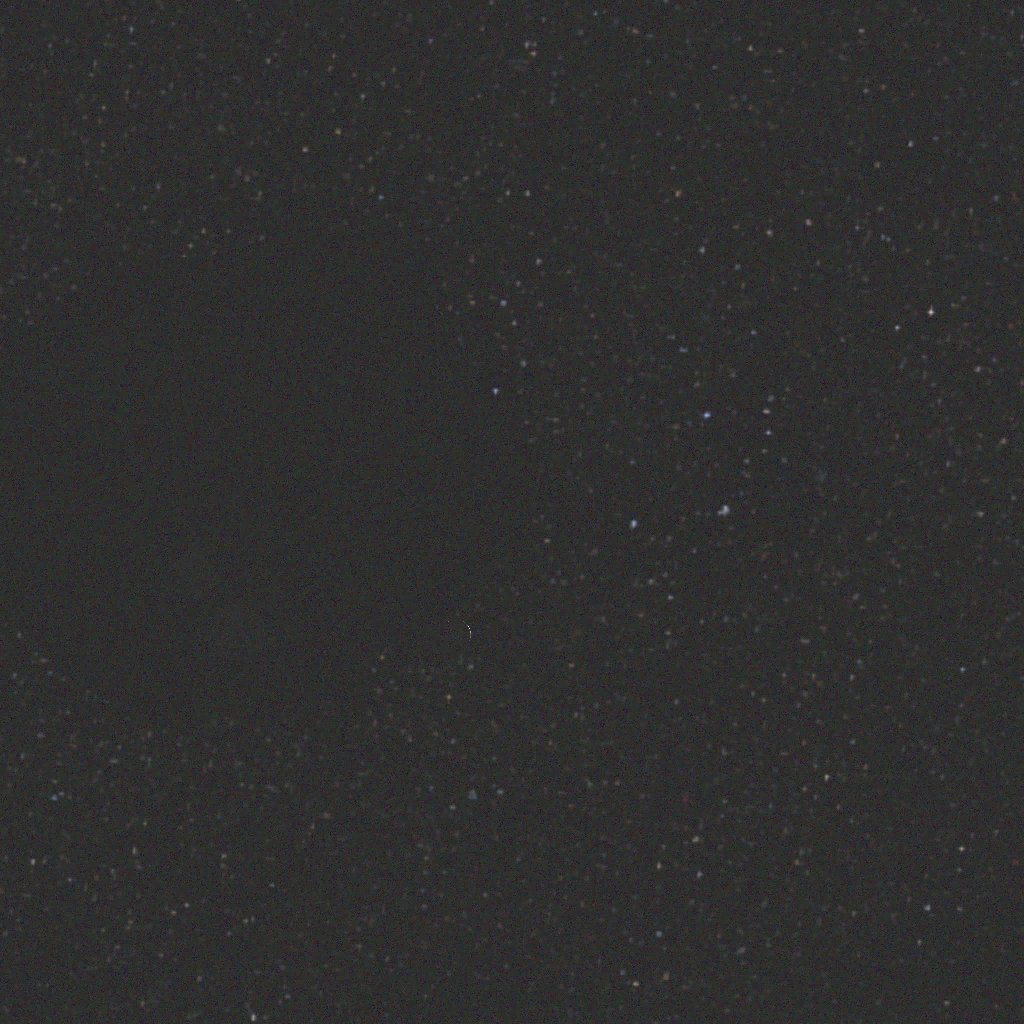proba_3_ocs: (0, 223, 540, 723)
